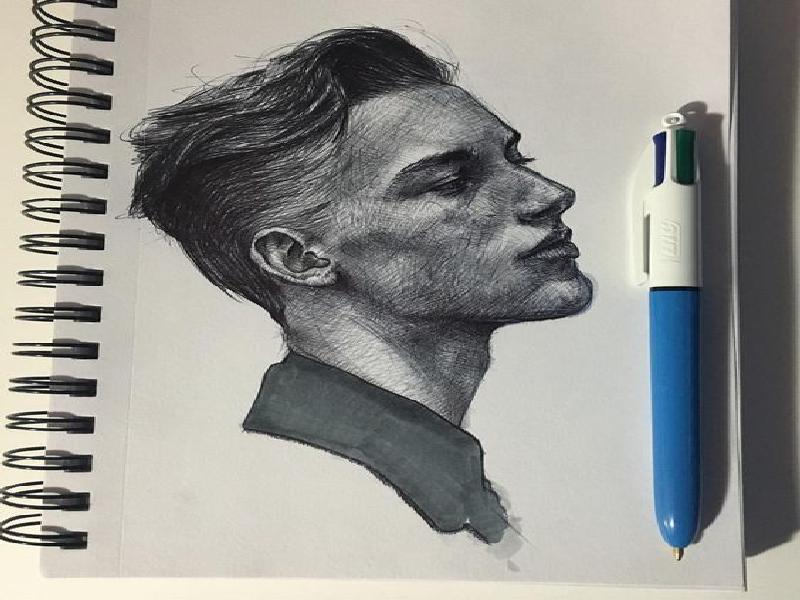pen: (620, 107, 722, 569)
